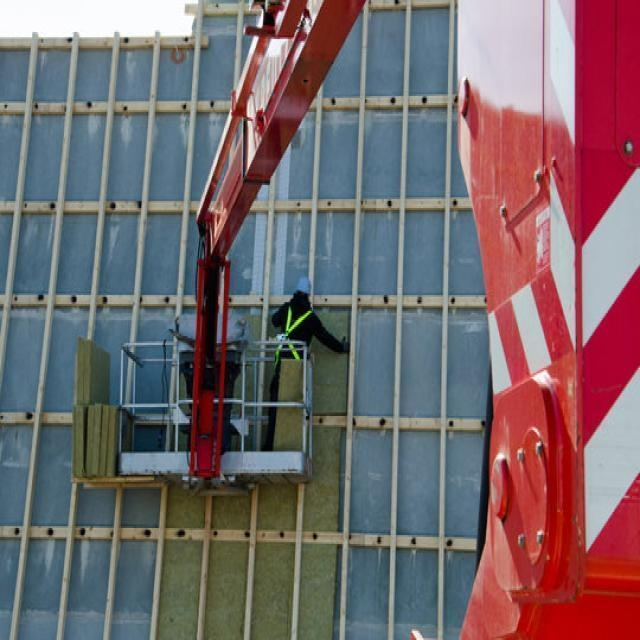Arnes_seguridad: (275, 305, 311, 361)
